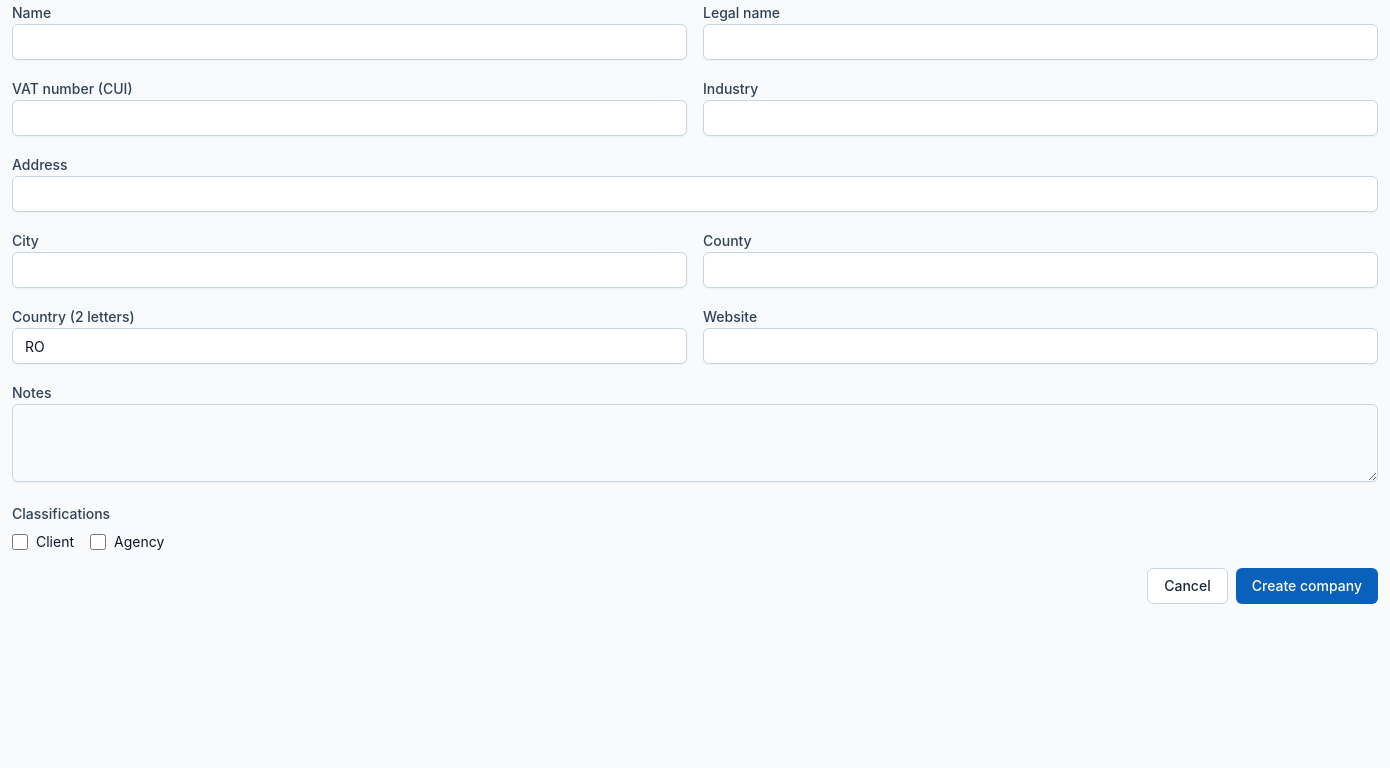
CompanyForm › never offers an override for an identical VAT number
Type "Anything" into the field labelled "Name".
click(350, 42); type("Anything")  # box [12, 24, 687, 60]
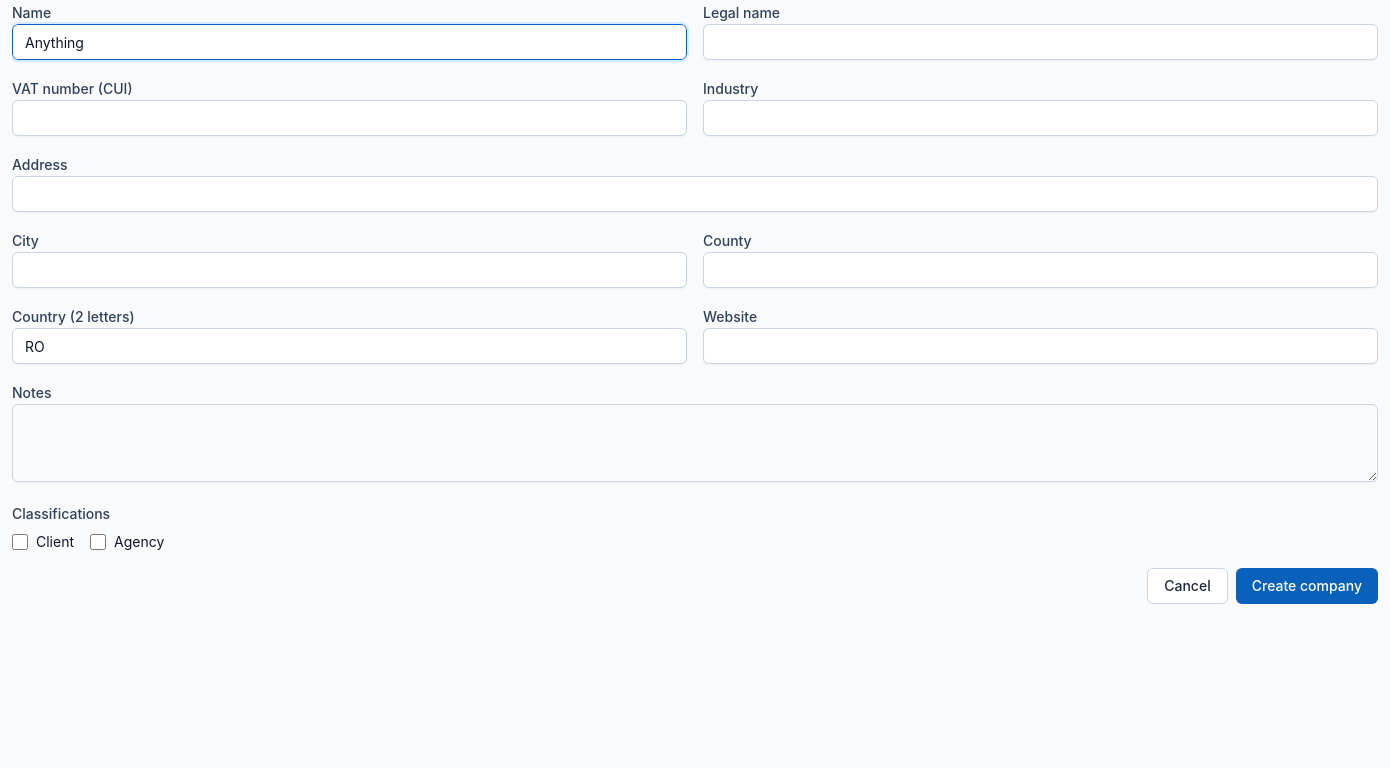
Click the button "Create company".
click(1307, 586)  # box [1236, 568, 1378, 604]
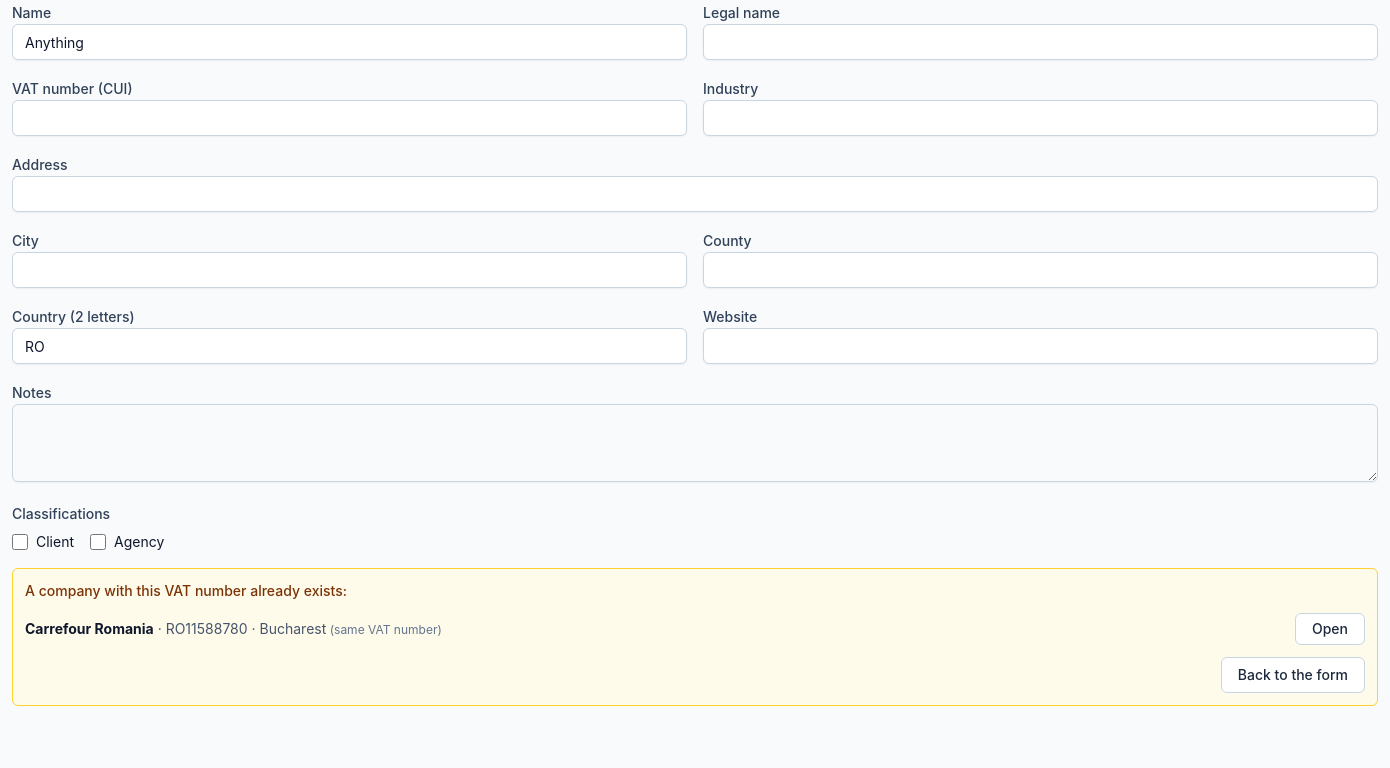
Result: the message shows "VAT number already exists" at [25, 582, 347, 599]
